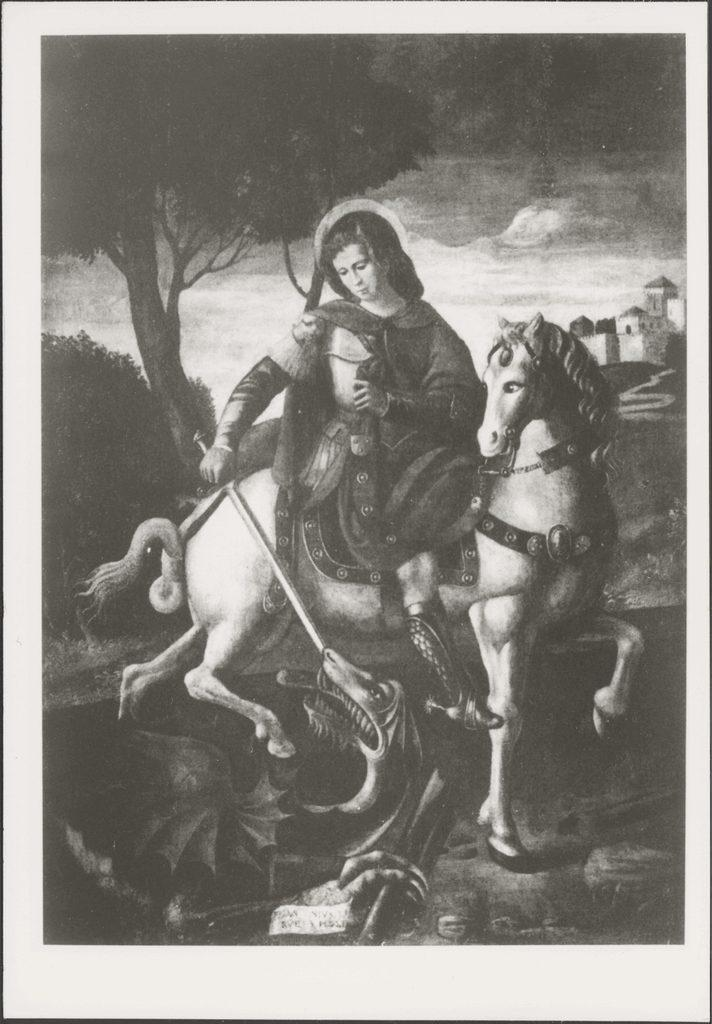dragon: (47, 654, 428, 921)
horse: (109, 316, 641, 870)
knight: (198, 217, 503, 730)
sword: (191, 426, 331, 664)
tree: (40, 32, 437, 430), (45, 336, 217, 626)
